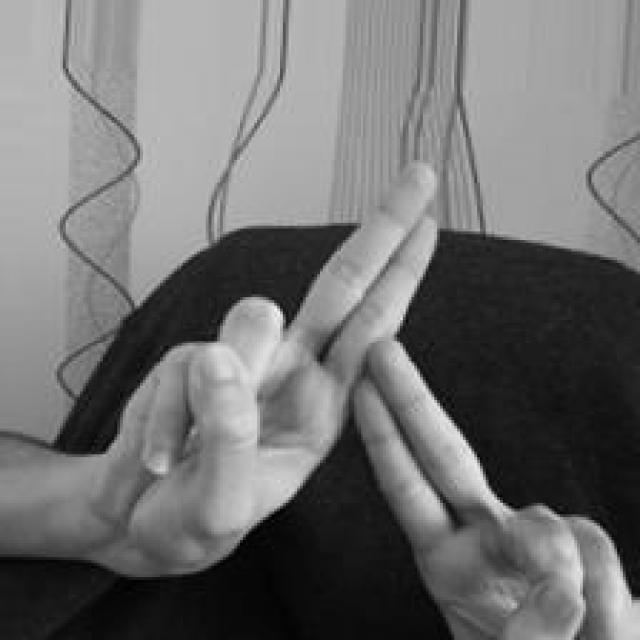K: (101, 158, 640, 640)
